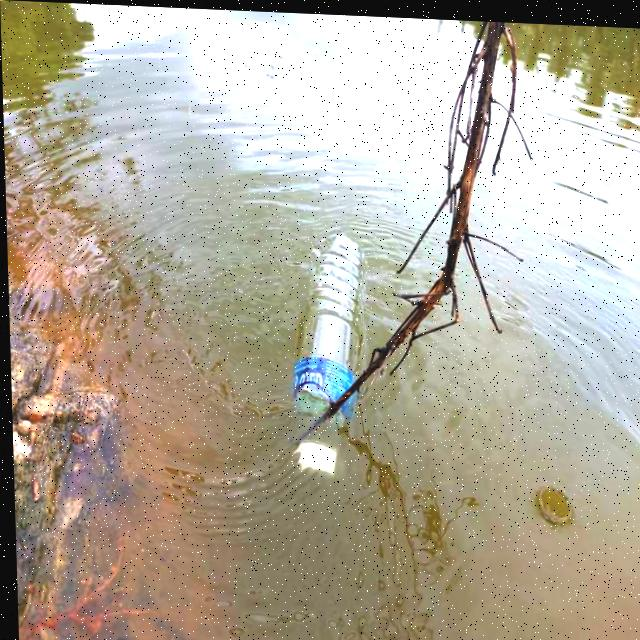waterbottle: (238, 212, 379, 484)
